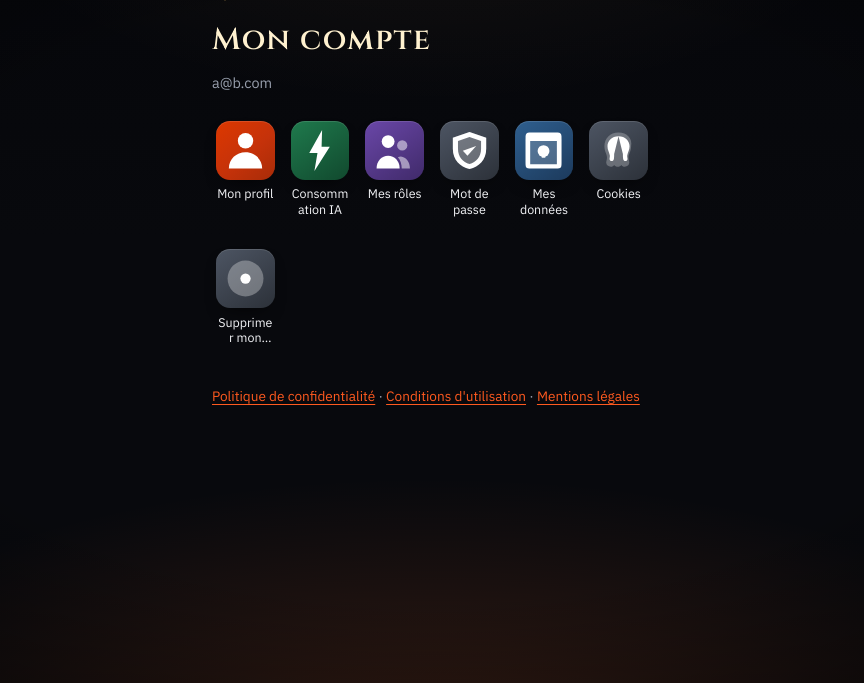
Scenario: AccountPage › suppression du compte › montre le détail et les avertissements avant de demander le mot de passe
Click the button "Supprimer mon compte" at (245, 298), box [216, 246, 275, 350]
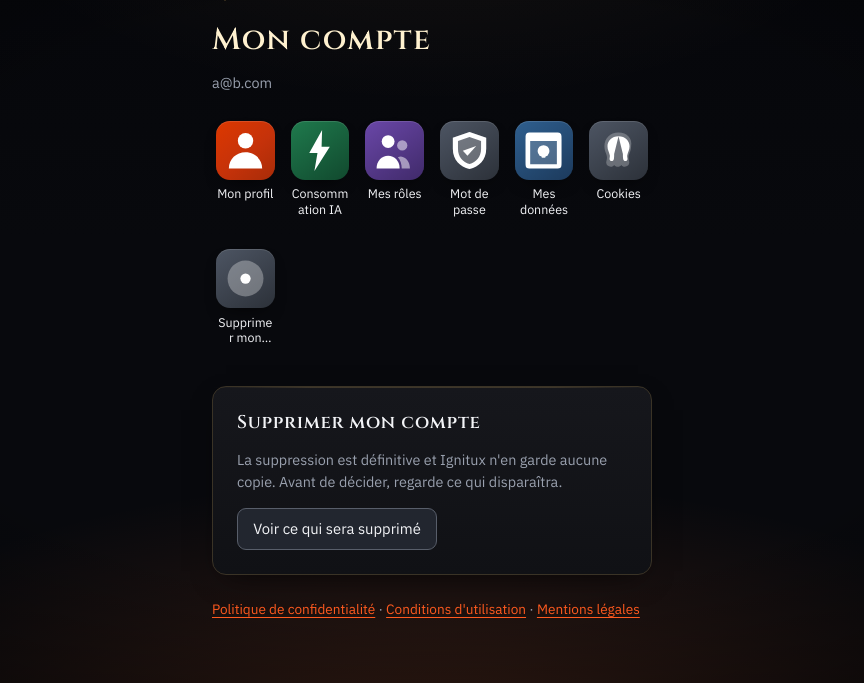
Click the button "Voir ce qui sera supprimé" at (337, 529), box [237, 508, 437, 550]
(page scrolled)
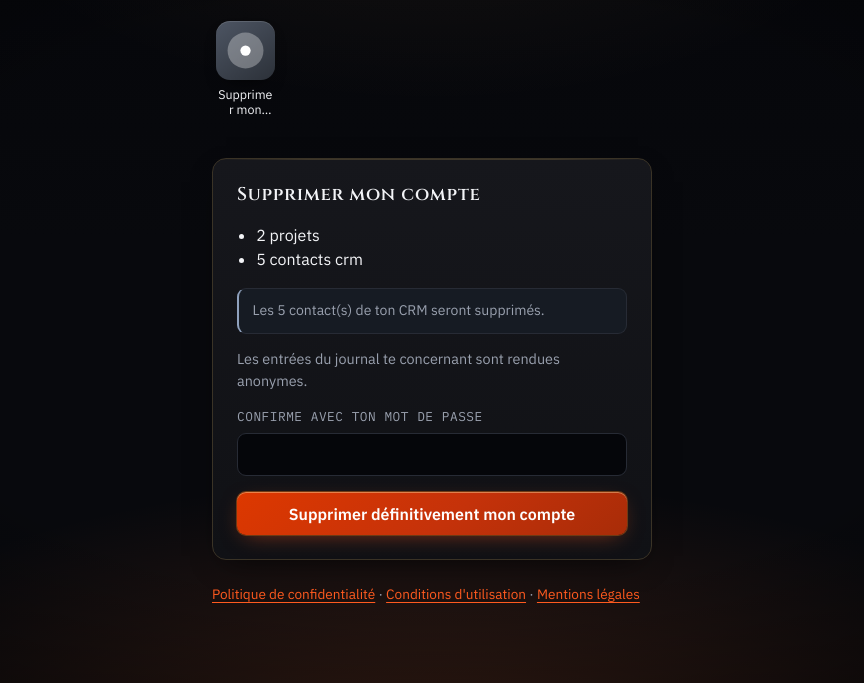
Expected: the list item "5 contacts crm" is shown, [256, 249, 363, 269]
Expected: the text "Les 5 contact(s) de ton CRM seront supprimés." is shown, [253, 300, 545, 321]
Expected: the password field labelled "Confirme avec ton mot de passe" is shown, [237, 433, 627, 476]
